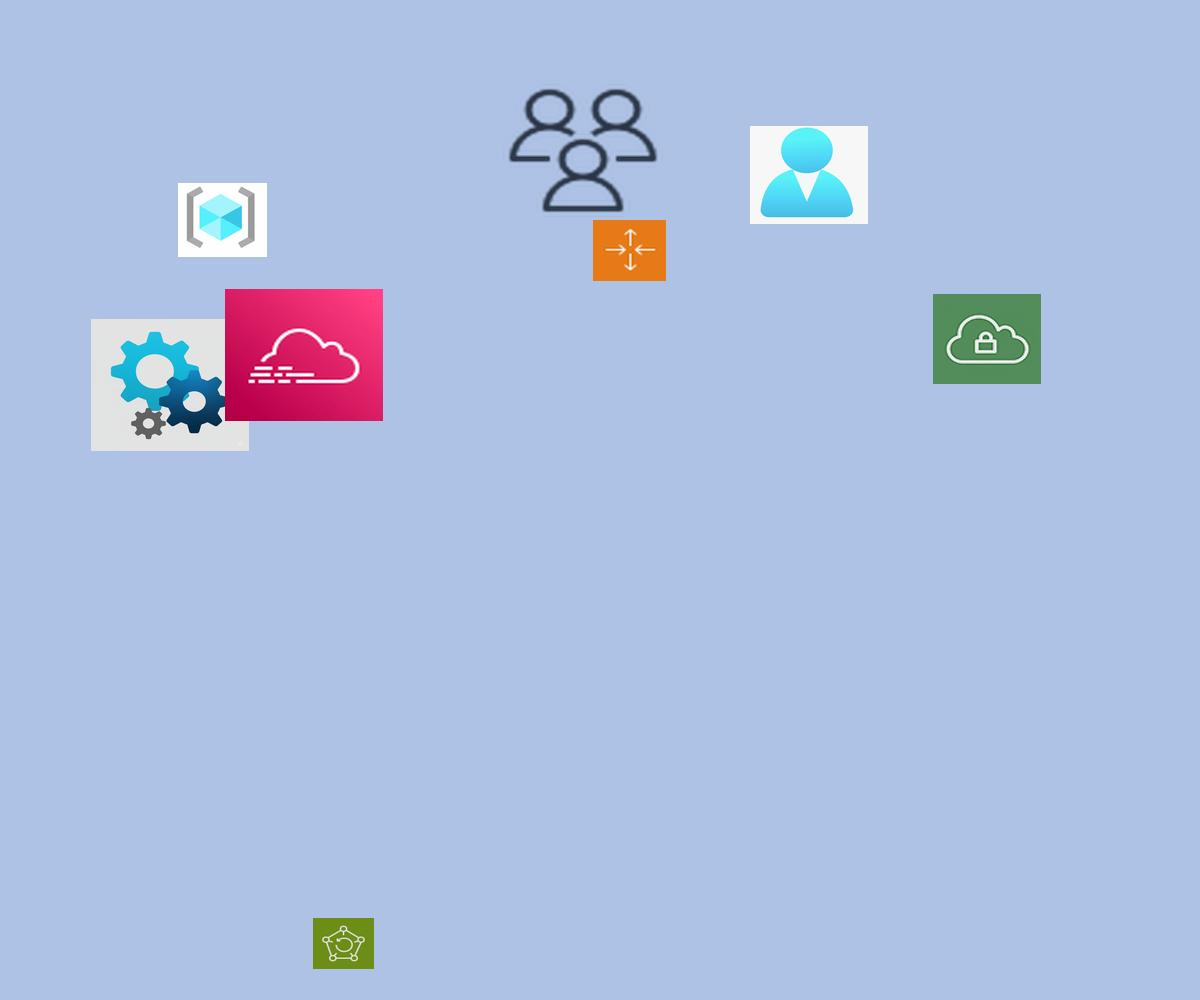AWS-Backup: (313, 918, 374, 969)
AWS-CloudTrail: (225, 289, 383, 421)
AWS-Private_vpc: (933, 294, 1041, 384)
AWS-Res_Users: (503, 84, 663, 217)
AWS-Scaling-group: (593, 220, 666, 281)
Azure_api: (91, 319, 249, 451)
Azure_resource_group: (178, 183, 267, 257)
Azure_users: (750, 126, 868, 224)
